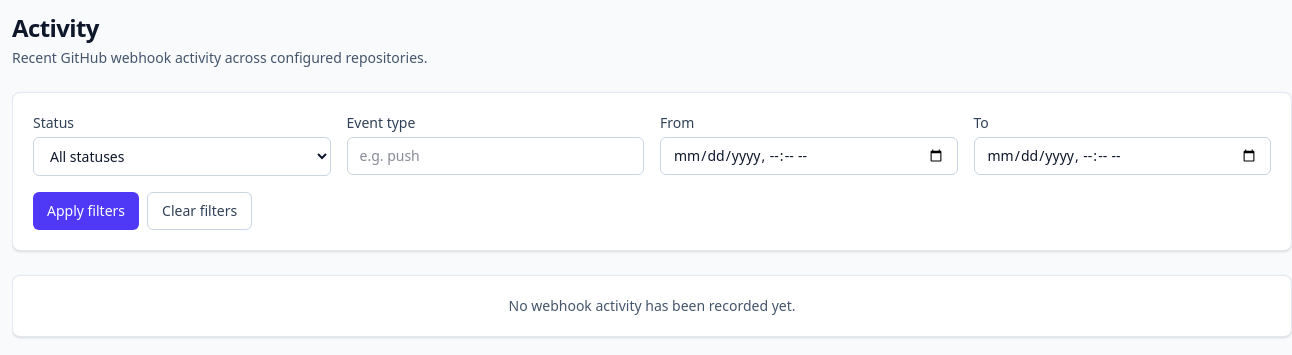
Test: ActivityPage › clears filters without sending empty filter values
Expected: the text "No webhook activity has been recorded yet." is shown, left=12, top=275, right=1291, bottom=337
Type "push" into the field labelled "Event type".
click(495, 156); type("push")  # box left=346, top=137, right=644, bottom=175
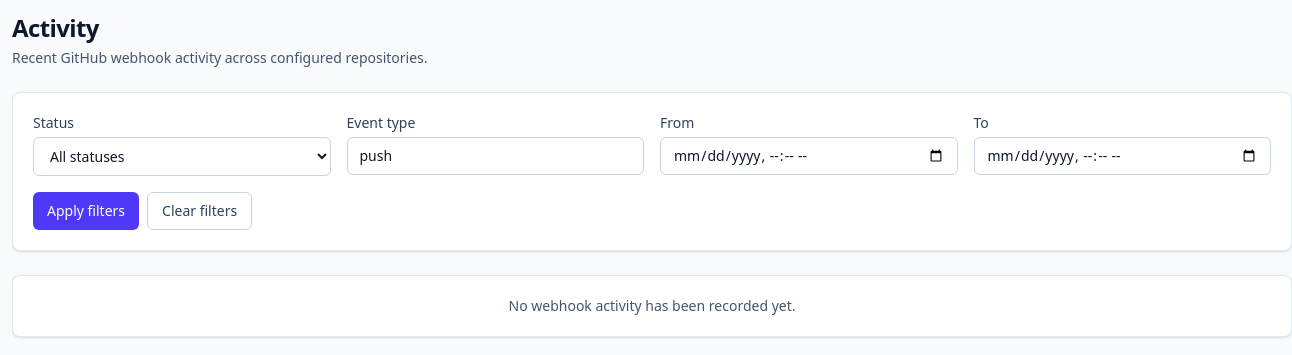
Click the button "Apply filters".
click(86, 211)  # box left=33, top=192, right=139, bottom=230
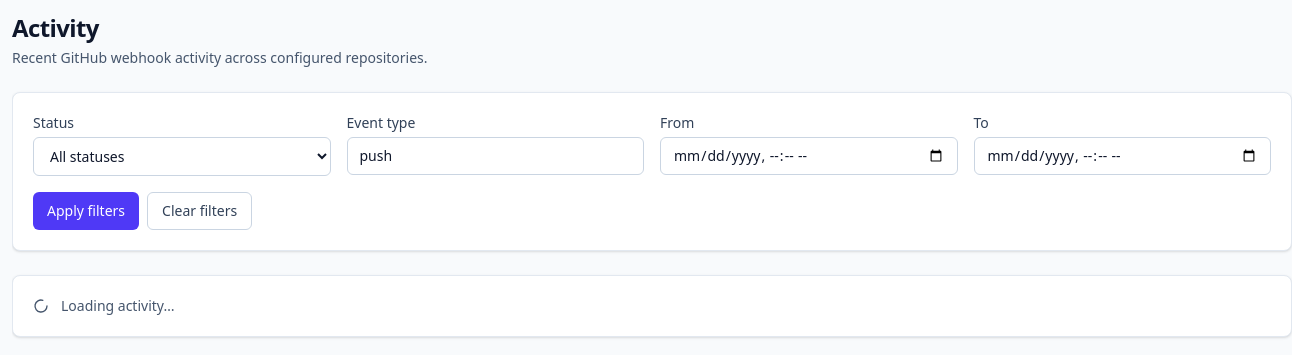
Click the button "Clear filters".
click(200, 211)  # box left=147, top=192, right=252, bottom=230
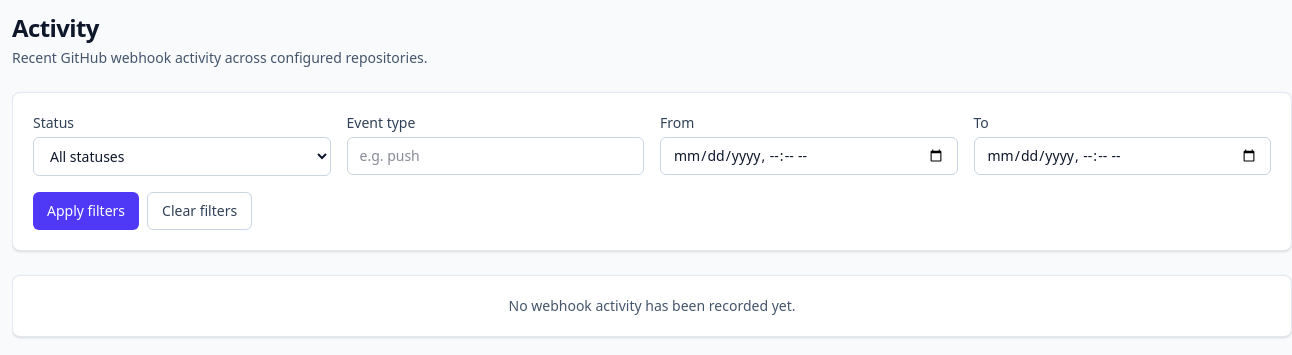
Expected: the field labelled "Event type" is empty, left=346, top=137, right=644, bottom=175
